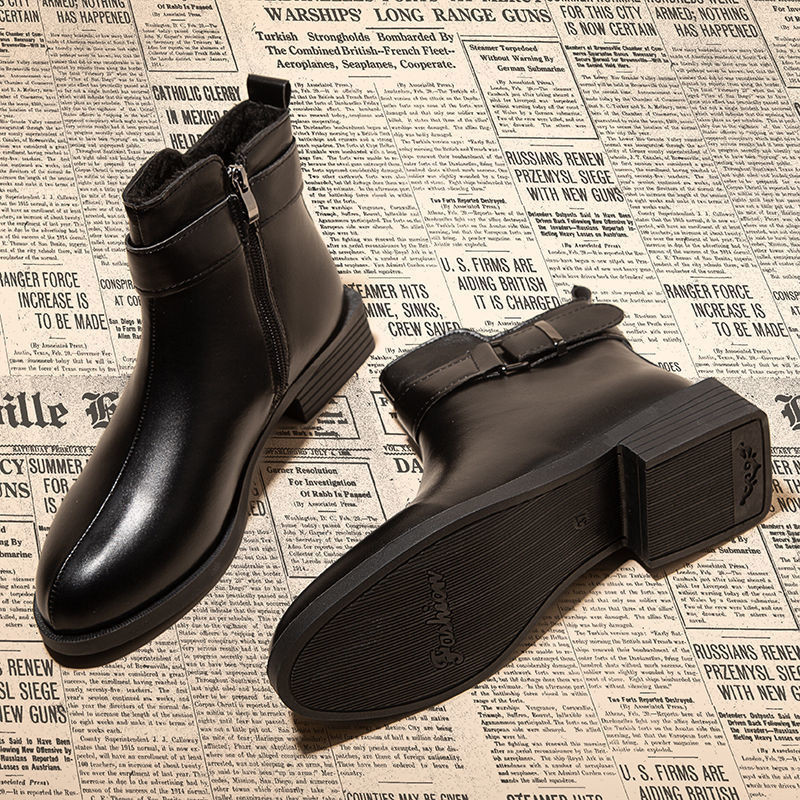boots: (266, 280, 775, 723), (29, 75, 376, 669)
